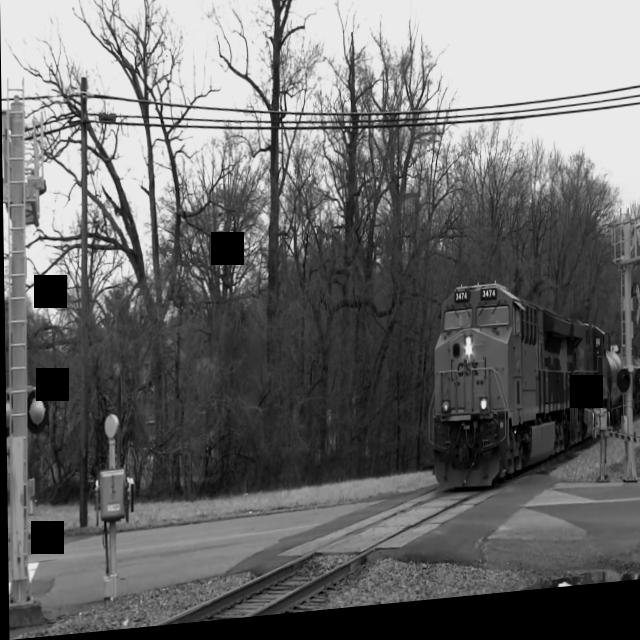locomotive: (419, 278, 570, 514)
